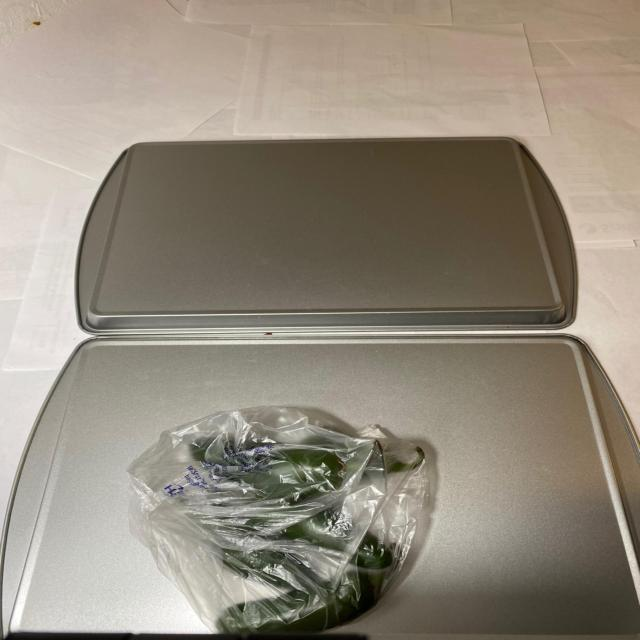chilli: (174, 430, 434, 633)
